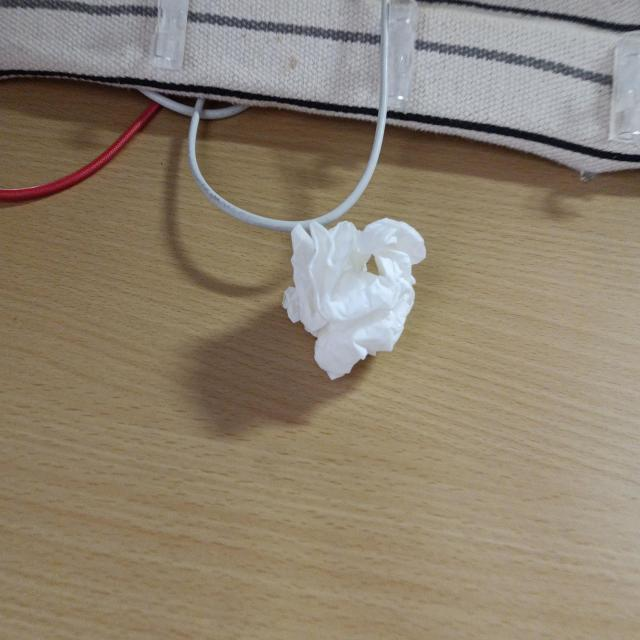Paper: (246, 186, 419, 378)
